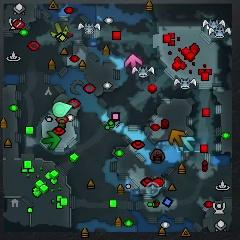Other: (146, 181, 160, 197)
p2: (52, 102, 72, 117)
x1: (125, 54, 142, 71)
x2: (51, 22, 68, 40)
x3: (179, 136, 194, 151)
x4: (42, 131, 61, 148)
x5: (169, 129, 185, 146)
